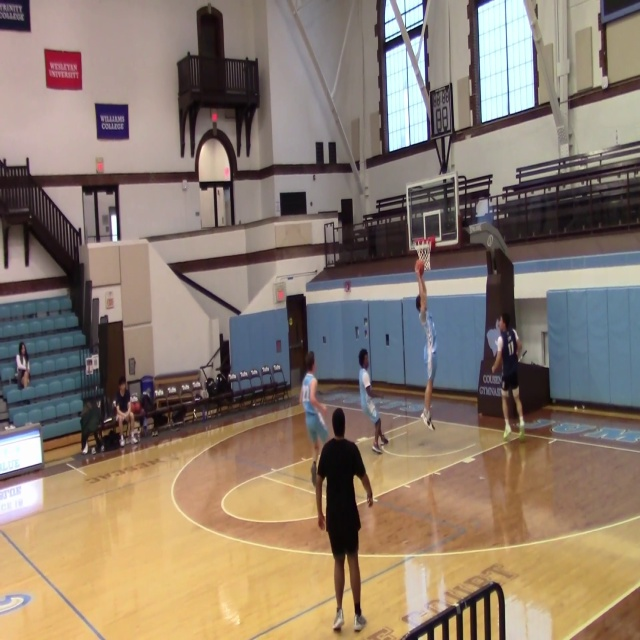Basketball: (414, 259, 425, 275)
